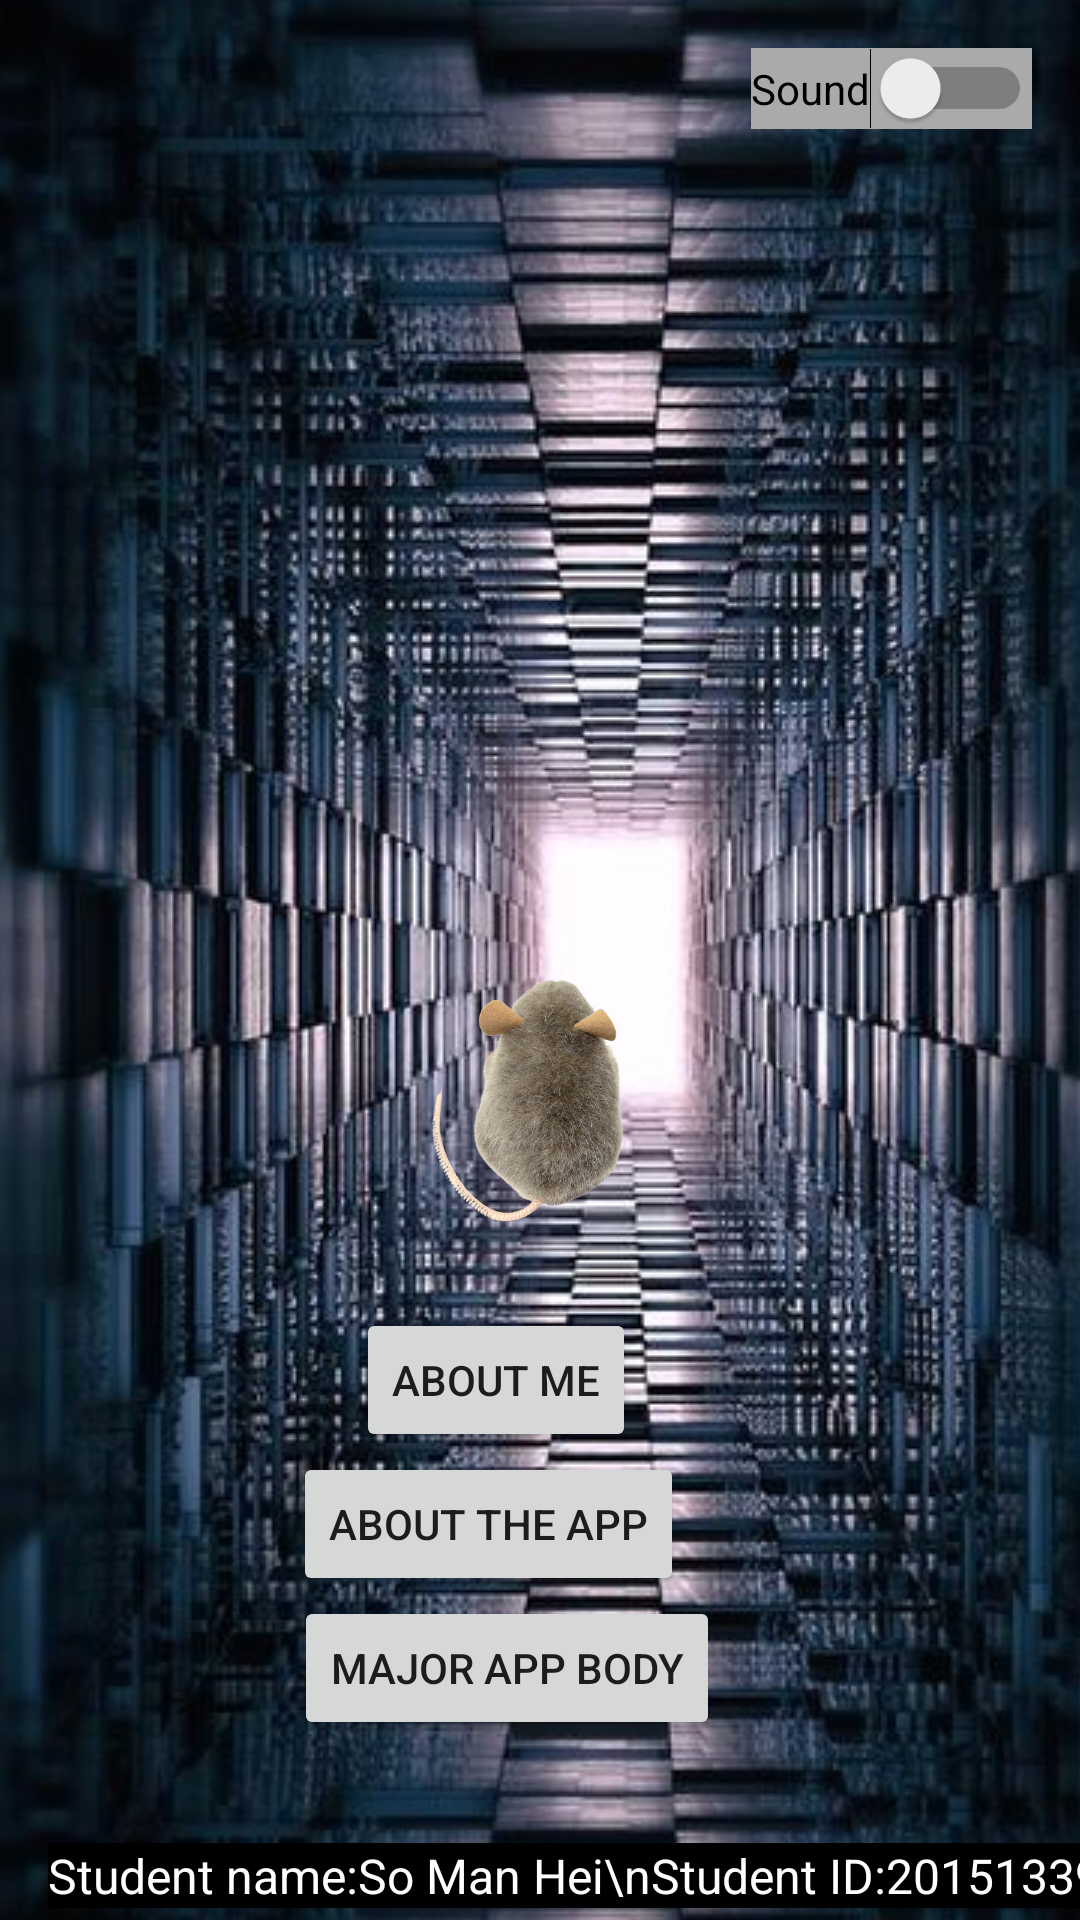

Named icons in this screenshot (1080px×1920px) and their centers, [x,y]:
mouse back: [543,1095]
